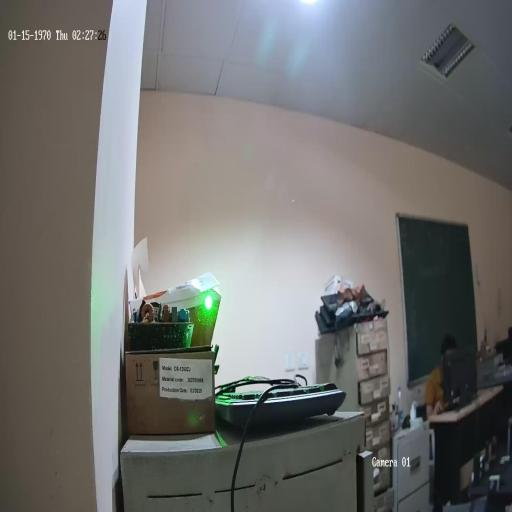laser: (203, 290, 214, 314)
